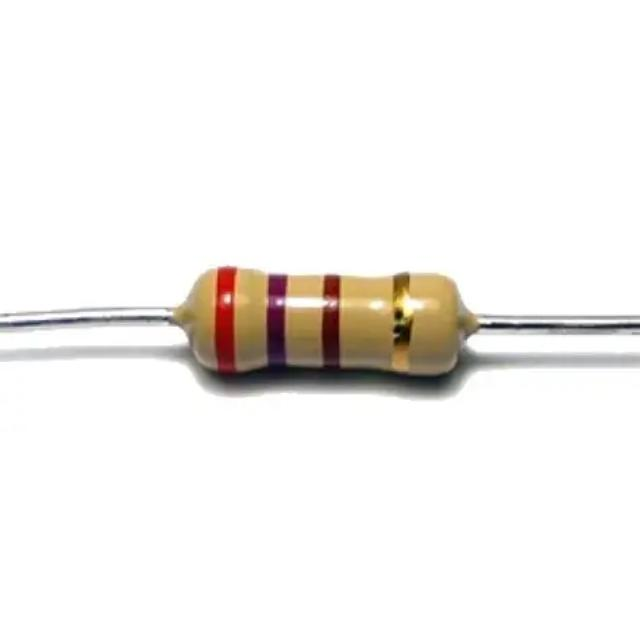brown: (323, 274, 340, 375)
gold: (390, 276, 411, 378)
red: (215, 262, 240, 376)
resistor: (158, 220, 501, 417)
violet: (266, 269, 288, 379)
